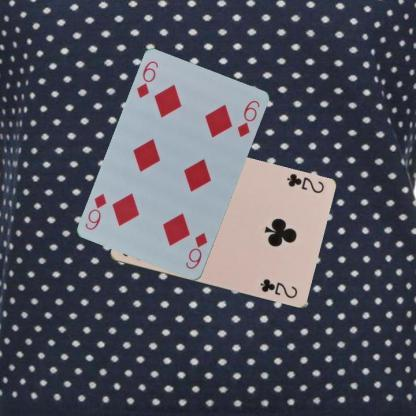2c: (284, 171, 326, 195)
6d: (134, 58, 160, 100), (183, 230, 209, 271)
